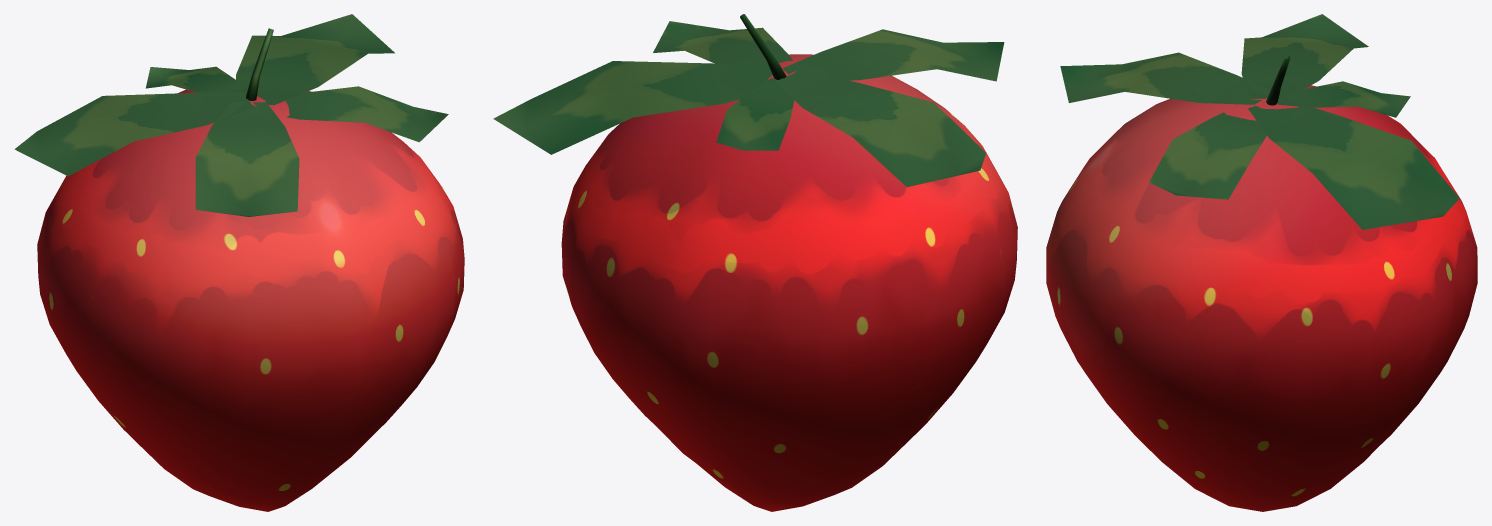
The model's file is SM_Char_Strawberry.fbx.
The picture shows the model from 3 angles, left to right: view 1: azimuth 30°, elevation 25°; view 2: azimuth 150°, elevation 25°; view 3: azimuth 270°, elevation 25°; orthographic projection. The views are drawn at different scales.
Parts seen in each view (by area): view 1: Groberi, Top; view 2: Groberi, Top; view 3: Groberi, Top.
Part boxes in pixels (bbox=[...]): Groberi: bbox=[37, 89, 464, 511]; Top: bbox=[14, 14, 448, 216]; Groberi: bbox=[561, 54, 1017, 511]; Top: bbox=[493, 14, 1004, 187]; Groberi: bbox=[1046, 85, 1477, 511]; Top: bbox=[1060, 14, 1459, 229].
Size of the model in its own units: 241 by 264 by 220.
Materials: 2 (2 with a texture image).
